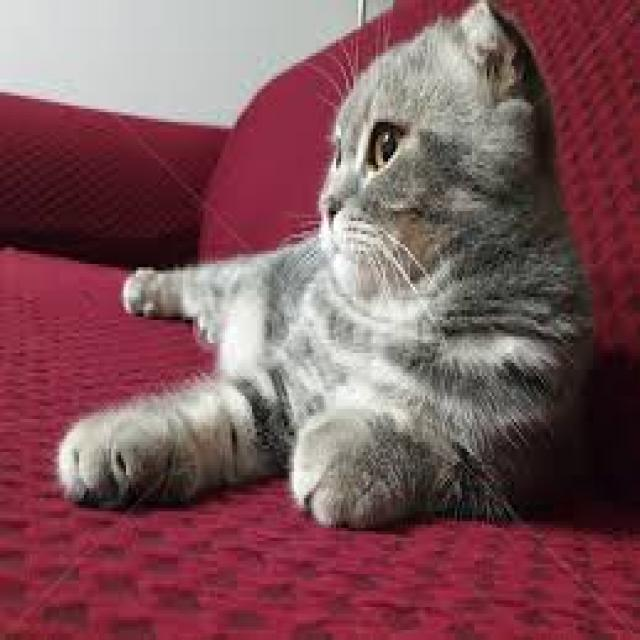cat-face: (272, 19, 600, 334)
